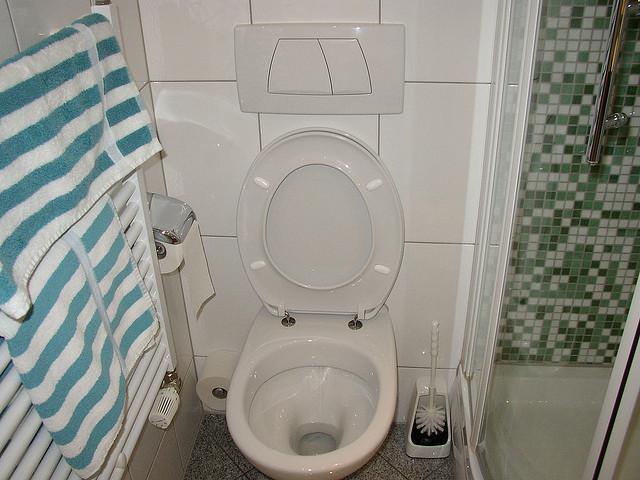Ducha: (449, 13, 639, 477)
Sanitario: (219, 132, 400, 479)
